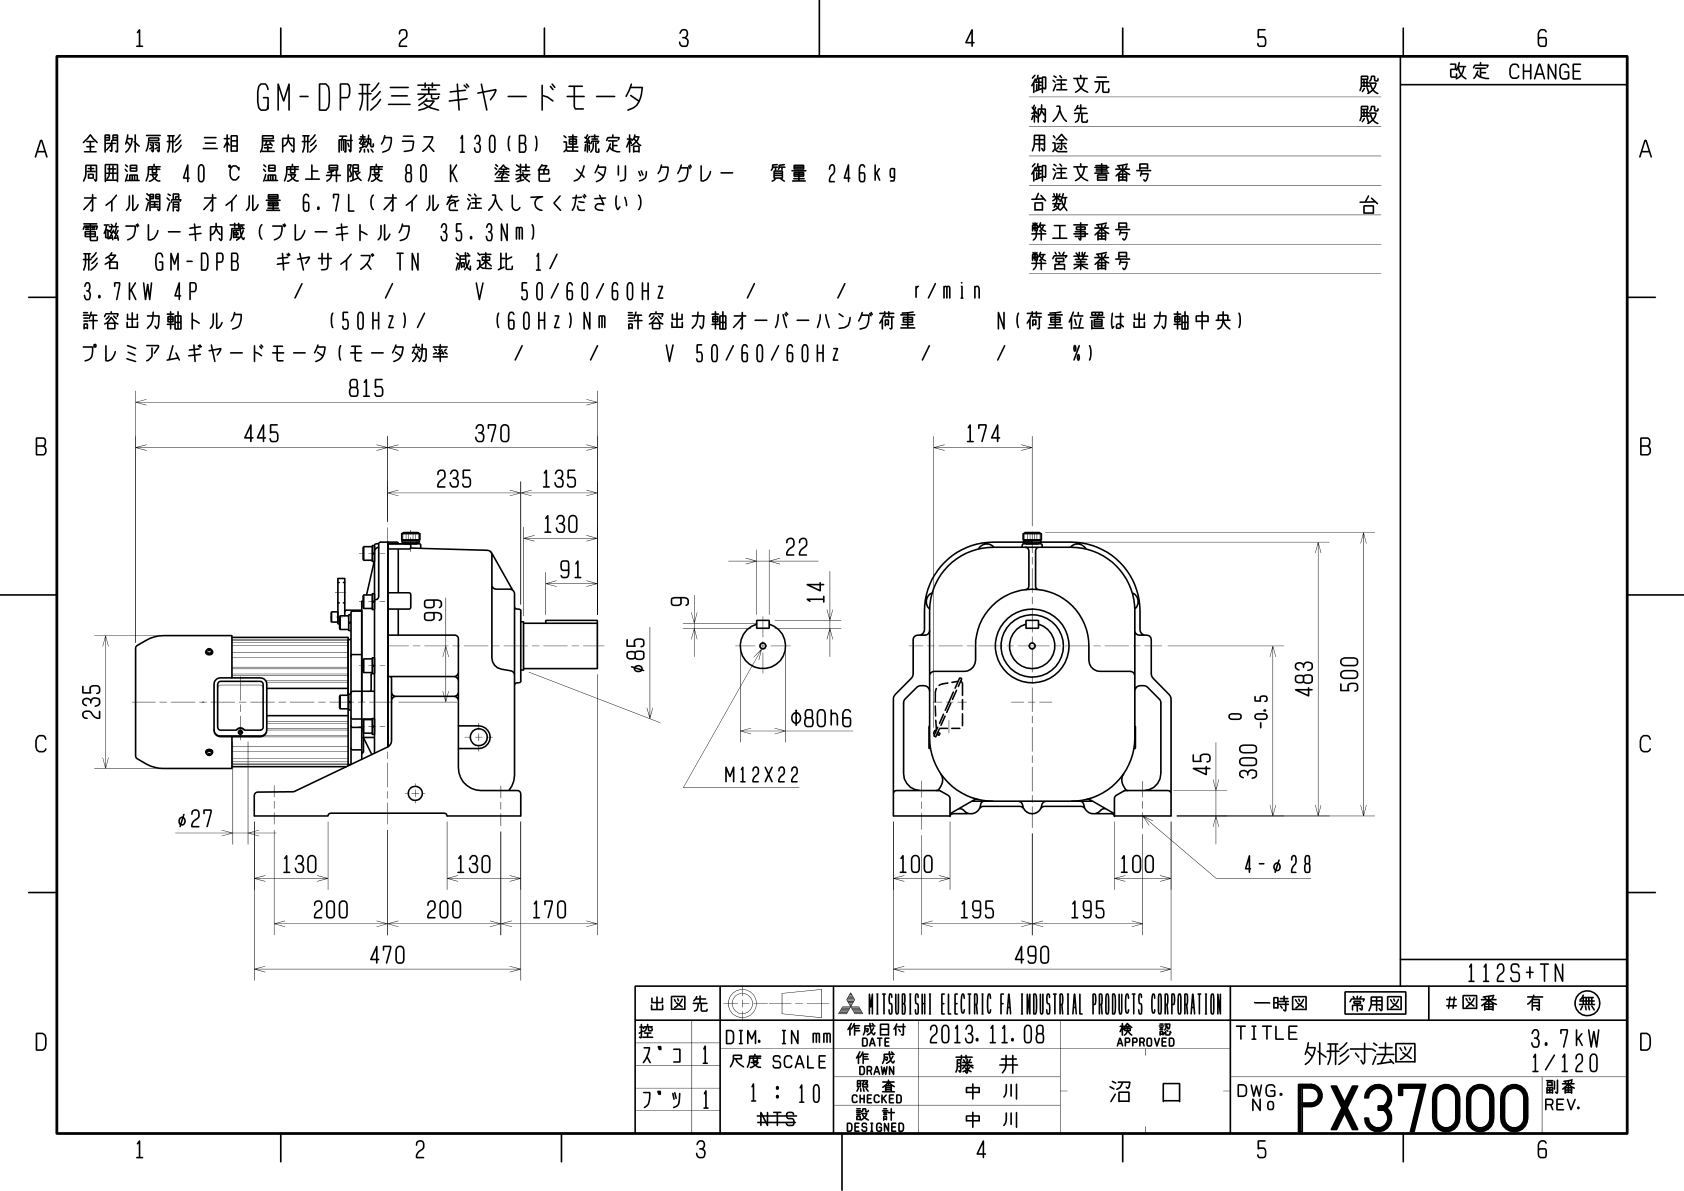GM_DP_屋内_三相_脚: (64, 369, 1377, 980)
